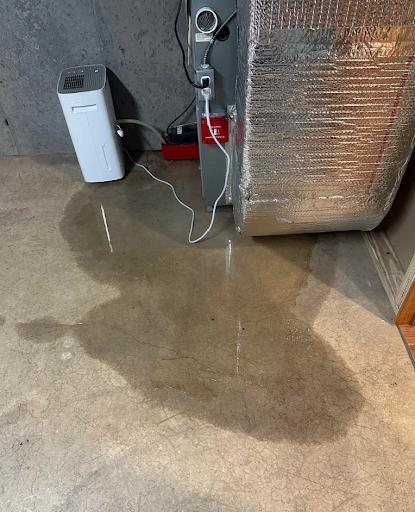water accumulation: (20, 153, 355, 448)
